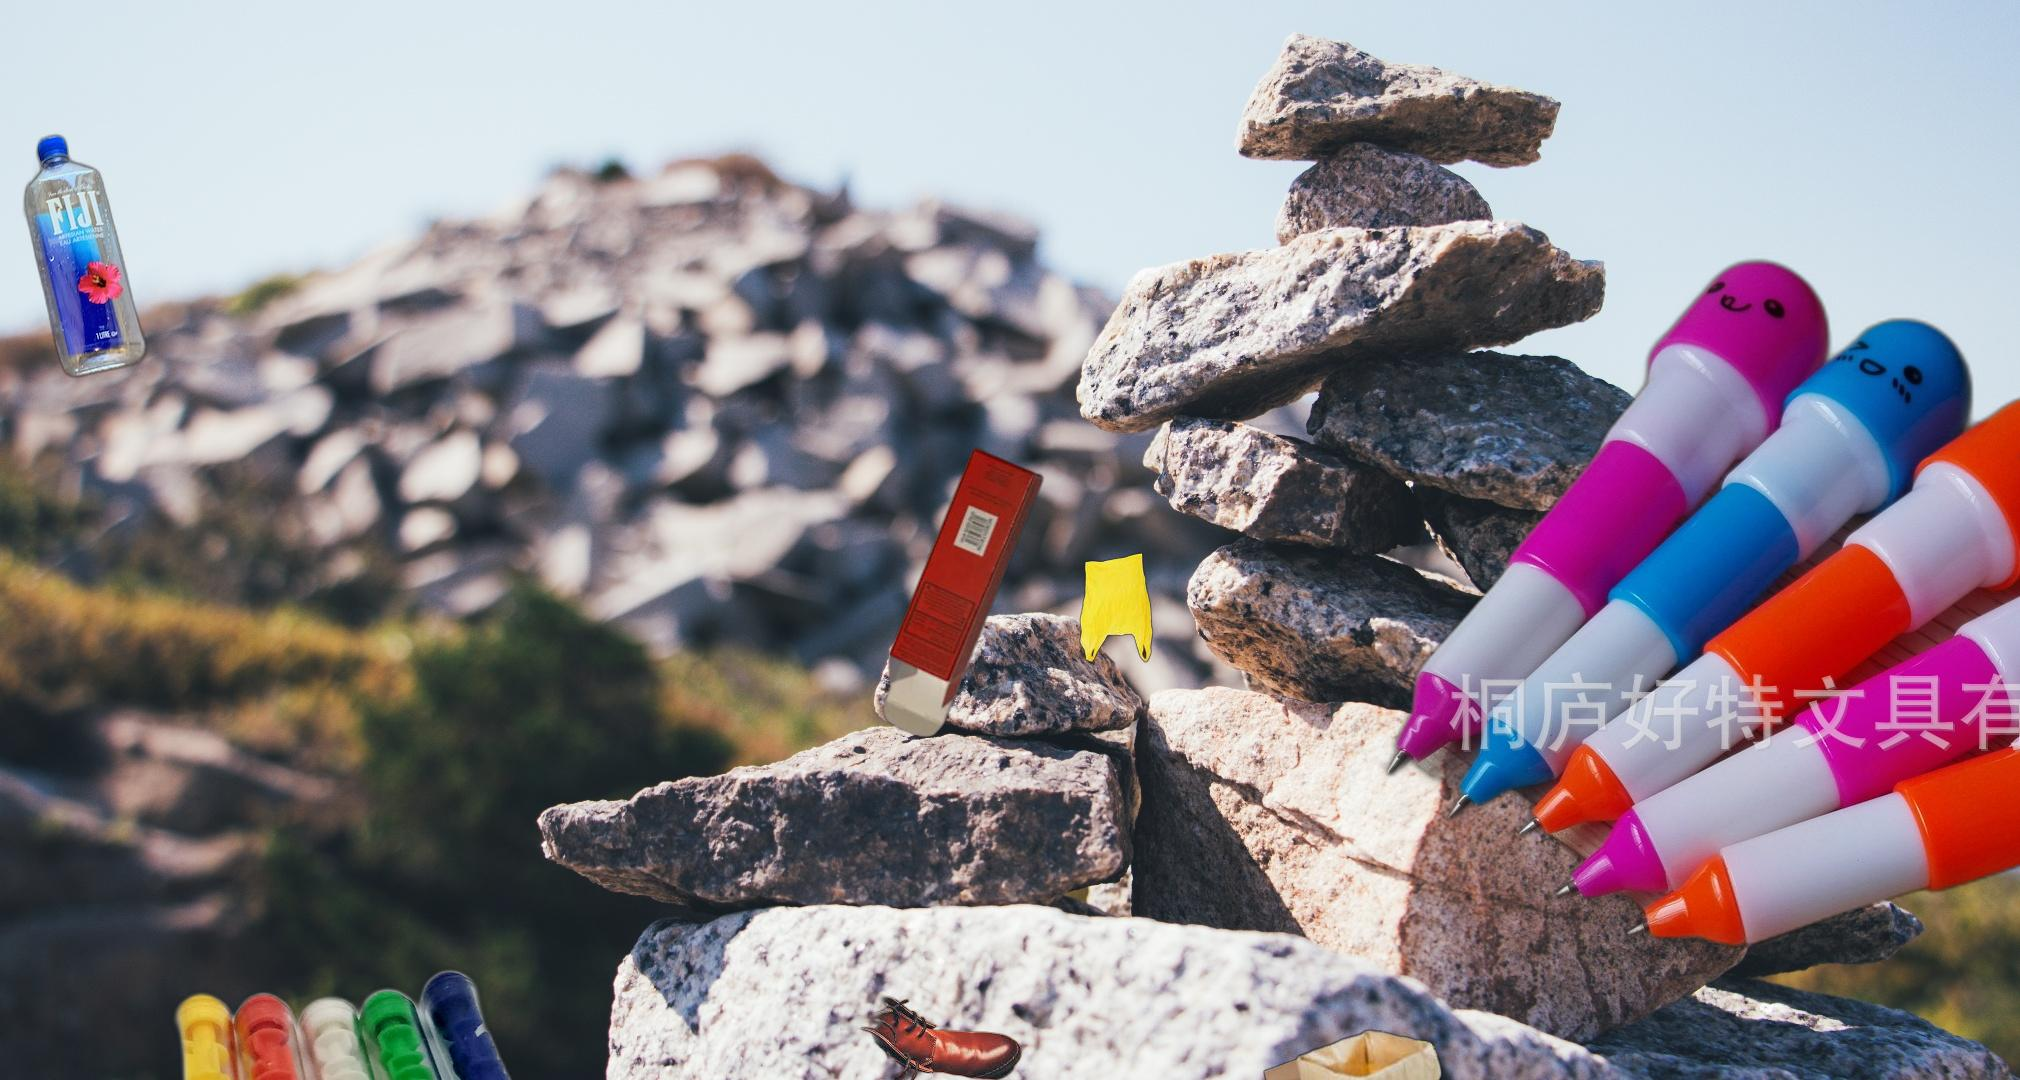paper: (878, 444, 1047, 740)
paper-bag: (1261, 1028, 1464, 1080)
penholder: (1372, 253, 2020, 956), (166, 961, 839, 1080)
plastic-bag: (1077, 549, 1156, 663)
plastic-bottles: (20, 130, 152, 384)
shoes: (840, 986, 1030, 1080)
